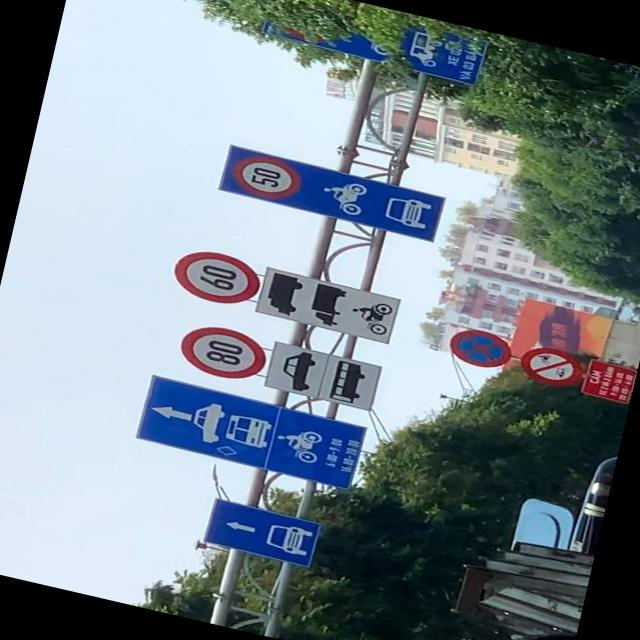P-104: (516, 343, 584, 391)
P-127: (173, 315, 270, 384), (166, 244, 264, 312)
P-130: (444, 325, 514, 371)
